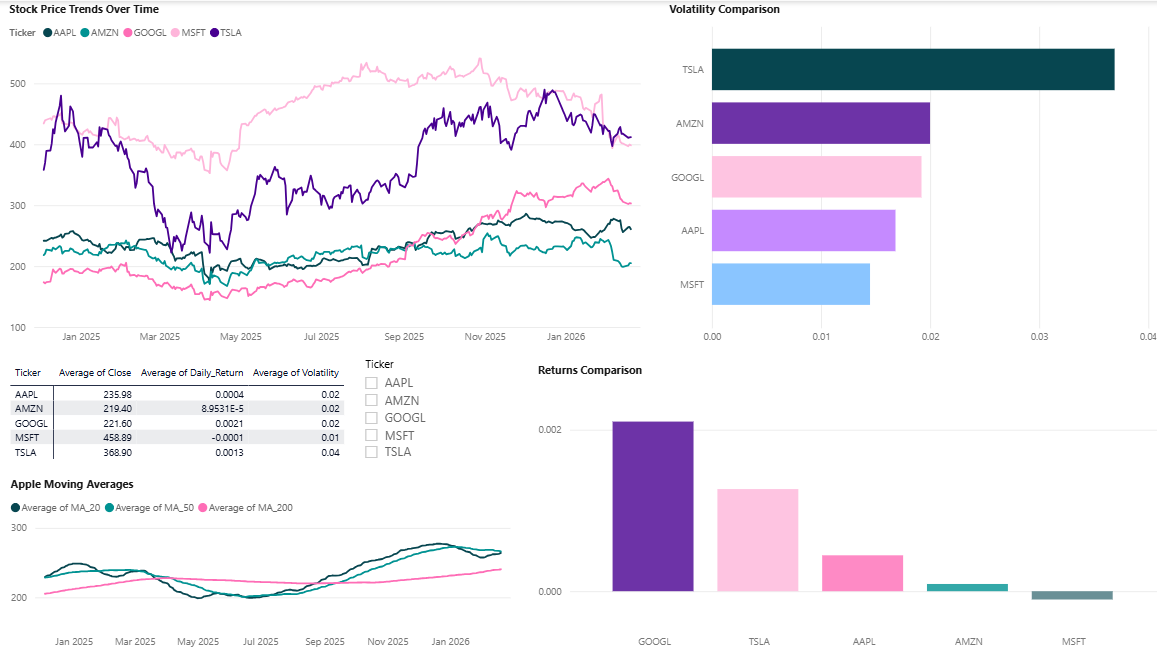

The page's visual inventory and layout, read from the dashboard file:
{"tool":"powerbi","page":{"name":"Stock Overview","canvas":[1280,720],"ordinal":0},"visuals":[{"type":"lineChart","title":"Stock Price Trends Over Time","fields":{"Category":["all_stocks_combined.Date"],"Y":["Sum(all_stocks_combined.Close)"],"Series":["all_stocks_combined.Ticker"]},"box":[9.6,0,713.6,385.6],"z":0},{"type":"pivotTable","fields":{"Rows":["all_stocks_combined.Ticker"],"Values":["Avg(all_stocks_combined.Close)","Avg(all_stocks_combined.Daily_Return)","Avg(all_stocks_combined.Volatility)"]},"box":[11,393.8,395.2,127.6],"z":1000},{"type":"clusteredBarChart","title":"Volatility Comparison ","fields":{"Category":["all_stocks_combined.Ticker"],"Y":["Avg(all_stocks_combined.Volatility)"]},"box":[734,0,546,386],"z":2000},{"type":"clusteredColumnChart","title":"Returns Comparison","fields":{"Category":["all_stocks_combined.Ticker"],"Y":["Avg(all_stocks_combined.Daily_Return)"]},"box":[590.1,396.6,690.2,323.8],"z":3000},{"type":"lineChart","title":"Apple Moving Averages","fields":{"Y":["Avg(all_stocks_combined.MA_20)","Avg(all_stocks_combined.MA_50)","Avg(all_stocks_combined.MA_200)"],"Category":["all_stocks_combined.Date"]},"box":[11,521.4,569.5,199],"z":4000},{"type":"slicer","fields":{"Values":["all_stocks_combined.Ticker"]},"box":[392.5,385.6,119.4,127.6],"z":5000}]}

Visuals, with their boxes in screenshot pixels (x1, y1, x2, y2), scaled from the page's 1280x720 canvas onto the 1157x656 screenshot:
"Stock Price Trends Over Time" lineChart: l=9, t=0, r=654, b=351
pivotTable - all_stocks_combined.Ticker x Avg(all_stocks_combined.Close): l=10, t=359, r=367, b=475
"Volatility Comparison " clusteredBarChart: l=663, t=0, r=1156, b=352
"Returns Comparison" clusteredColumnChart: l=533, t=361, r=1156, b=655
"Apple Moving Averages" lineChart: l=10, t=475, r=525, b=655
slicer - all_stocks_combined.Ticker: l=355, t=351, r=463, b=468
